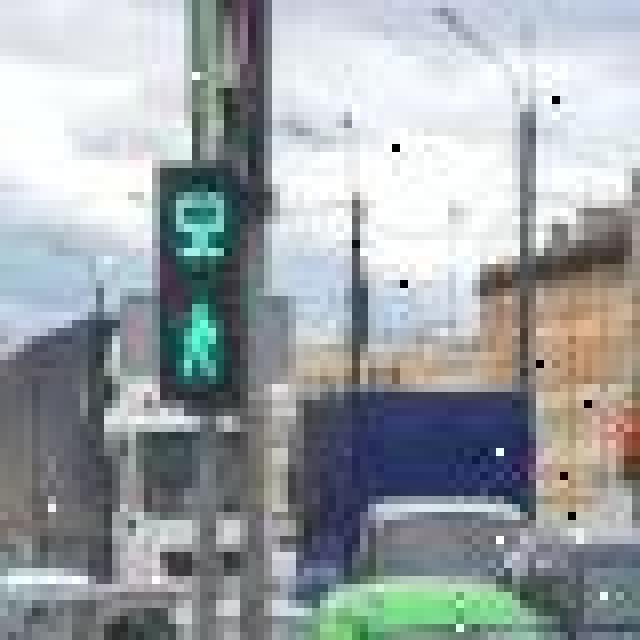greenlight: (142, 163, 257, 422)
